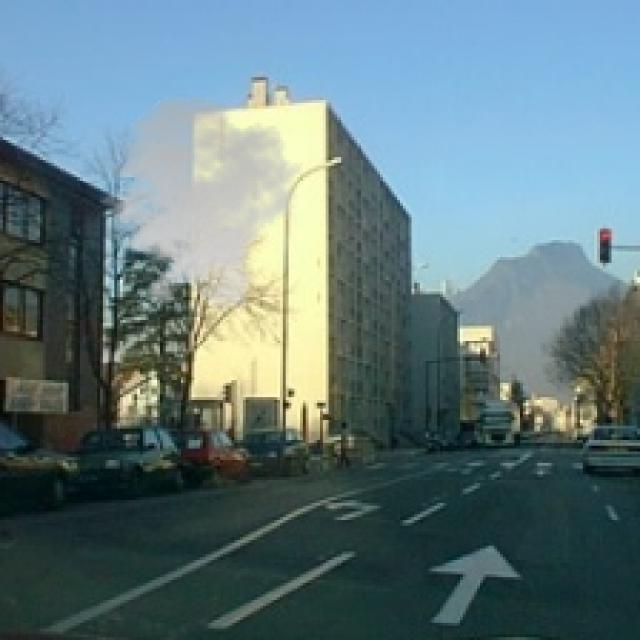Smoke: (89, 94, 308, 314)
